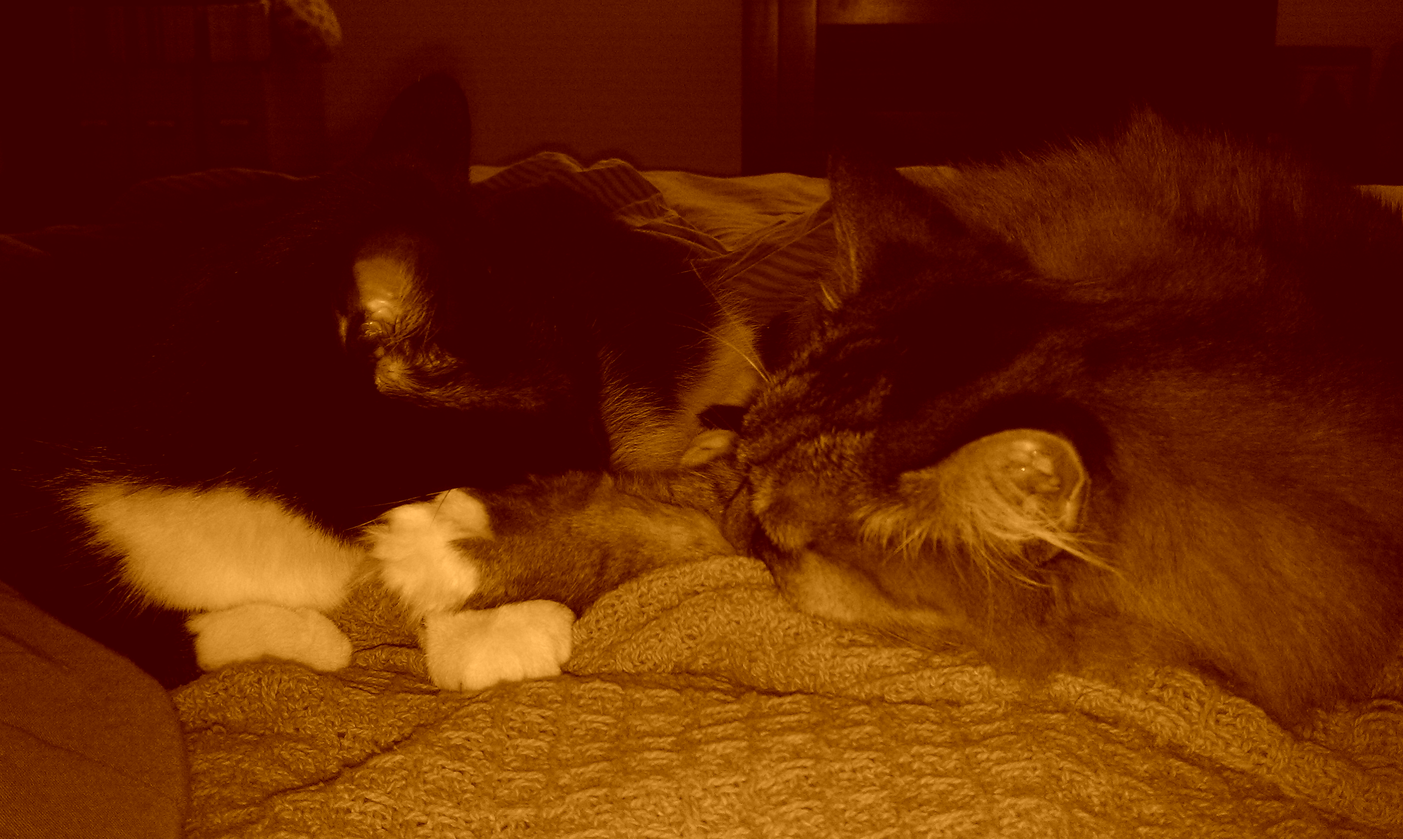cat: (374, 102, 1400, 698), (0, 74, 758, 676)
